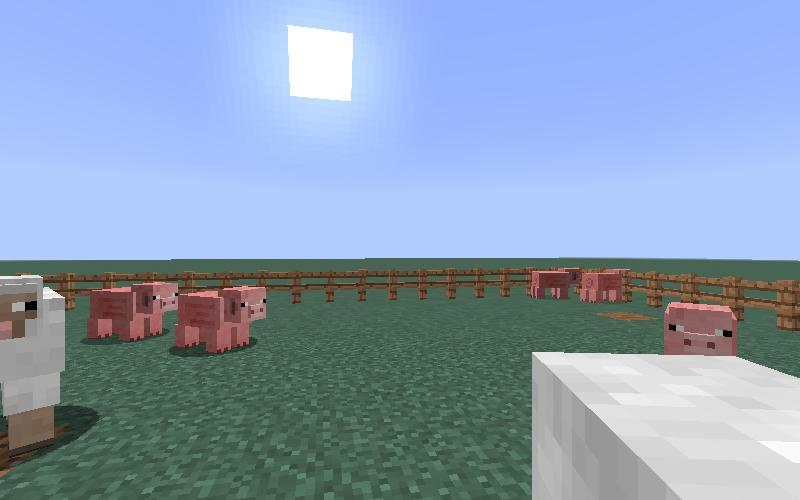pig: (174, 285, 268, 363), (86, 278, 177, 355), (661, 302, 739, 354), (528, 263, 580, 308), (583, 261, 631, 309)
sheep: (1, 274, 67, 454)
